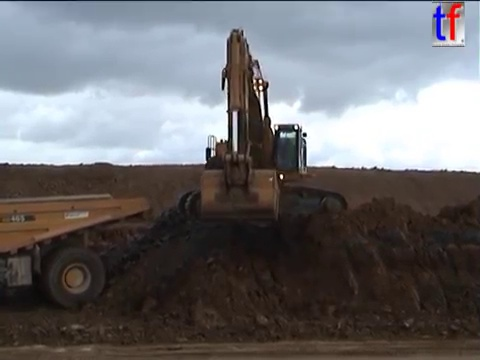excavator: (174, 25, 351, 231)
truck: (1, 191, 152, 311)
